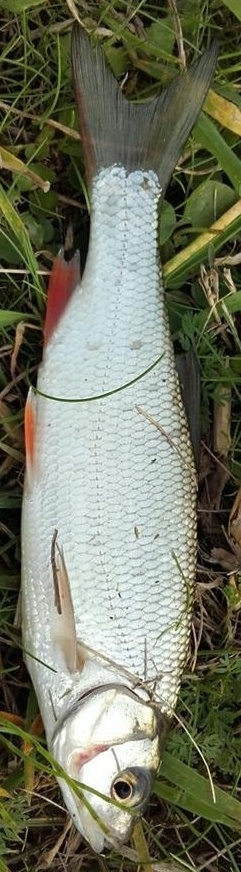Leuciscus idus: (20, 20, 221, 852)
